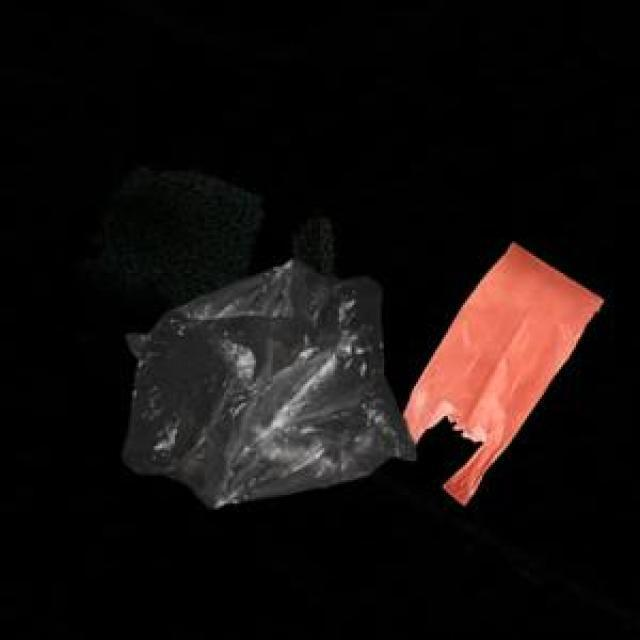Vinyl: (122, 244, 604, 508)
